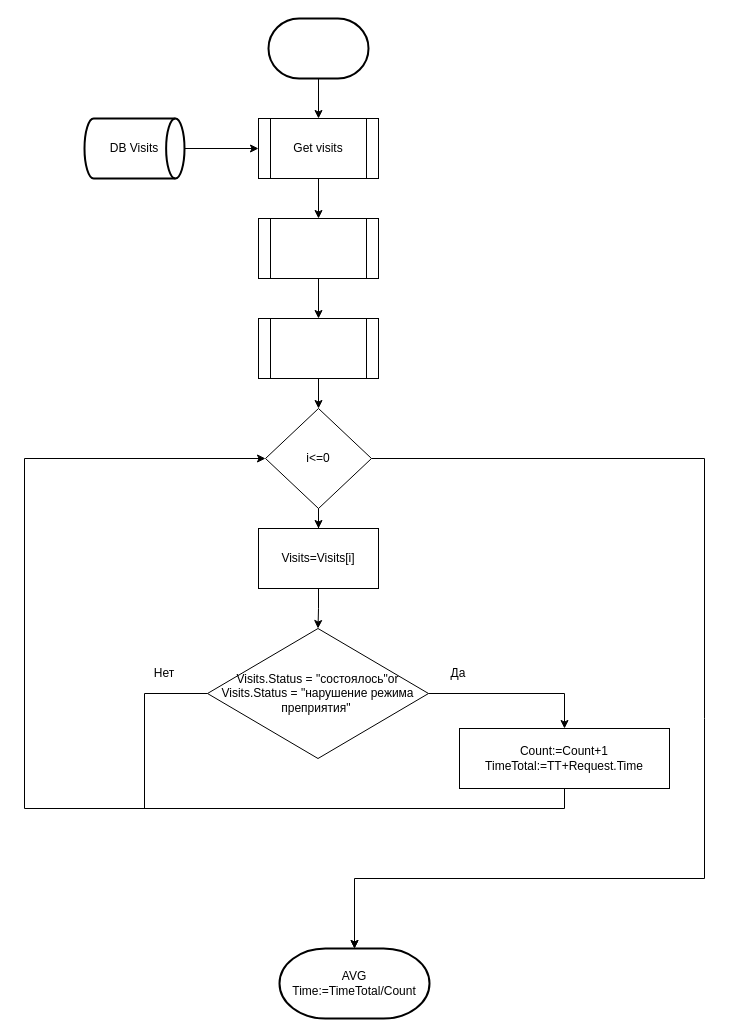
Image size: 730x1036. Some labels were removed from this diagram. Each missing label, with the centre of its shape:
"Count:=0 TimeTotal:=0 i:=0" goes at pixel 318 348.
"Function AVG Time" goes at pixel 318 48.
"N: Visits.Count" goes at pixel 318 248.
